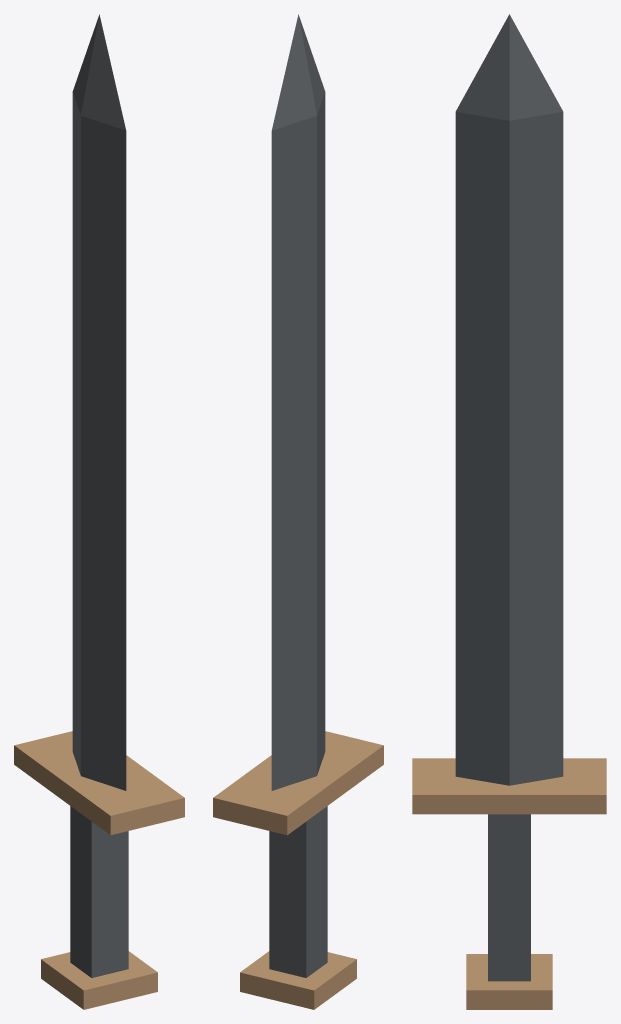
File: sword.glb
3 views of the same model, side by side, from view 1: azimuth 30°, elevation 25°; view 2: azimuth 150°, elevation 25°; view 3: azimuth 270°, elevation 25° (orthographic).
Parts seen in each view (by area): view 1: Sword; view 2: Sword; view 3: Sword.
Boxes of the visible parts, left/top/right/bottom form: Sword: left=14, top=14, right=184, bottom=1009; Sword: left=213, top=14, right=383, bottom=1009; Sword: left=412, top=14, right=606, bottom=1009.
Size of the model in its own units: 0.08 by 1 by 0.18.
